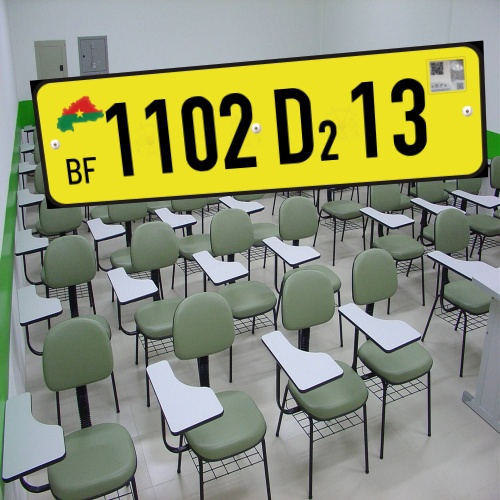plate: (15, 37, 500, 210)
